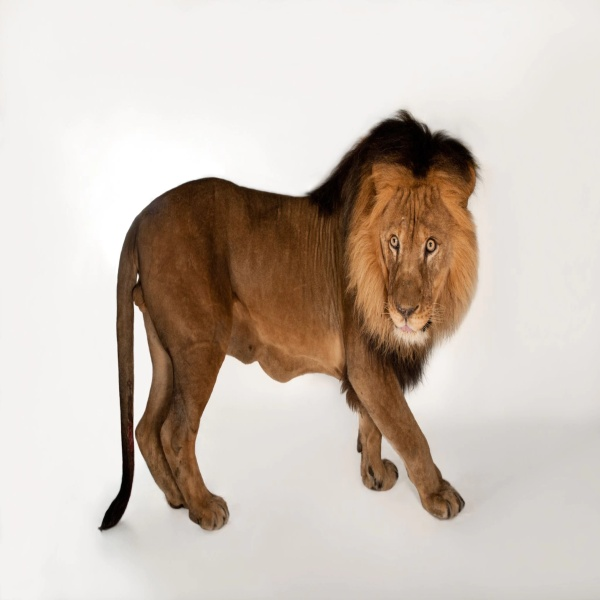Lion: (96, 106, 485, 534)
